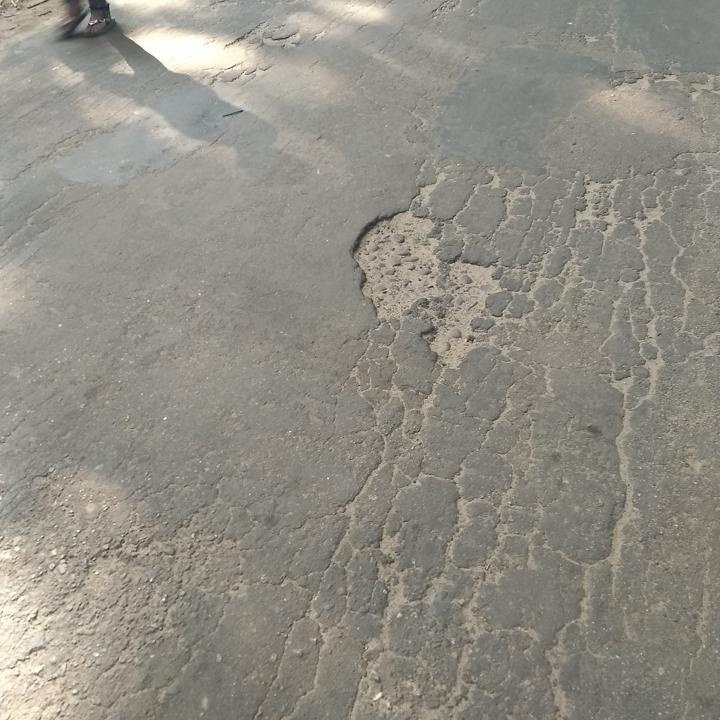pothole: (348, 201, 507, 373)
